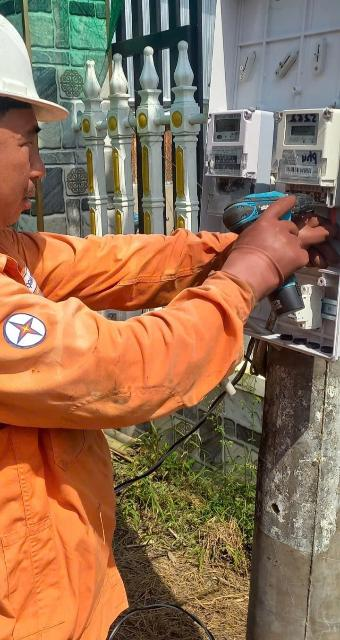gloves: (211, 193, 309, 318), (227, 198, 340, 275)
